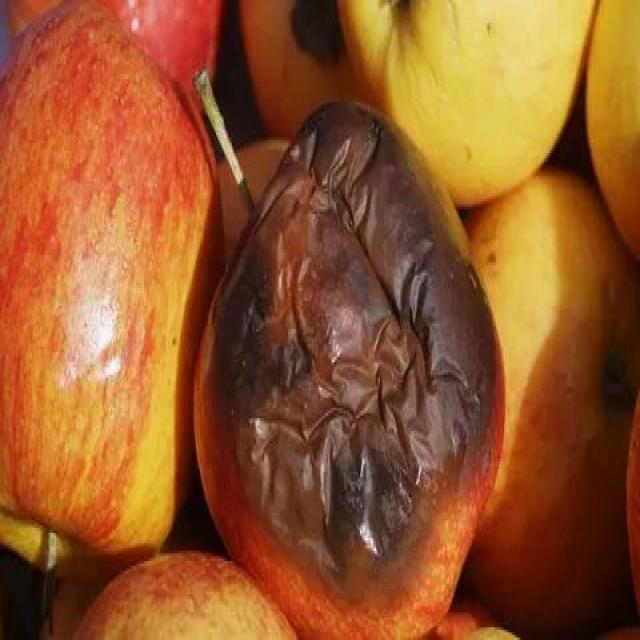Rotten: (193, 115, 532, 628)
